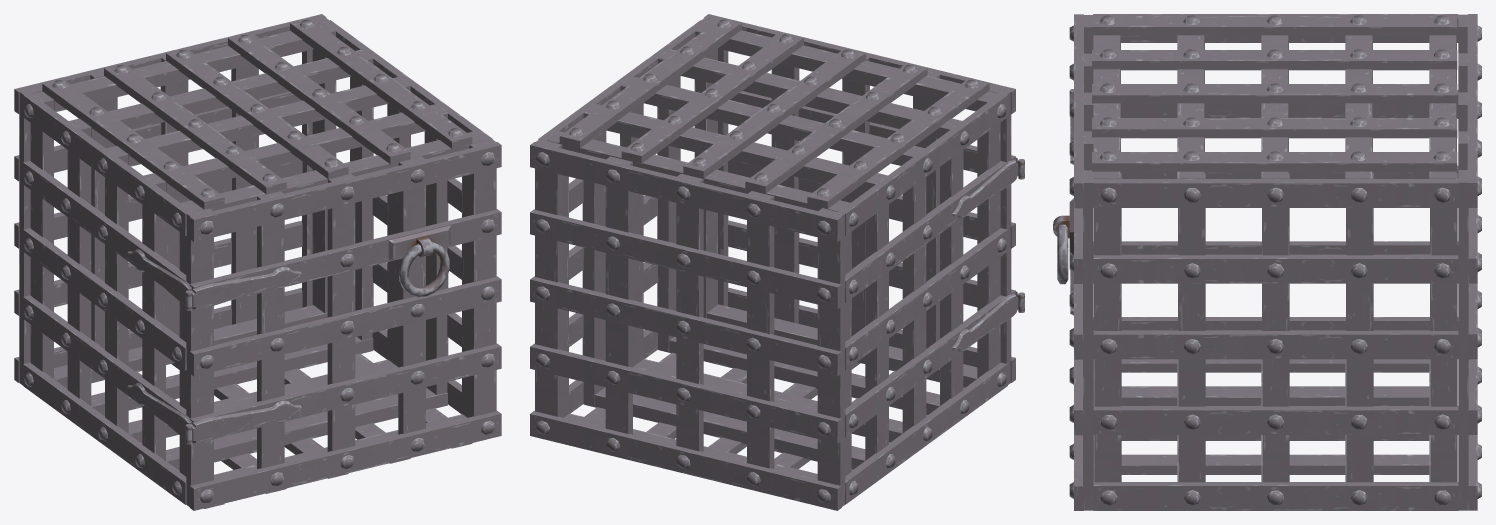
The model's file is Cage_Small.glb.
The picture shows the model from 3 angles, left to right: view 1: azimuth 30°, elevation 25°; view 2: azimuth 150°, elevation 25°; view 3: azimuth 270°, elevation 25°; orthographic projection. The views are drawn at different scales.
Parts seen in each view (by area): view 1: Cage_Small; view 2: Cage_Small; view 3: Cage_Small.
Part boxes in pixels (box(x1,y1,x2,y2)): Cage_Small: box(14, 14, 501, 510); Cage_Small: box(530, 14, 1024, 510); Cage_Small: box(1053, 14, 1481, 510).
Size of the model in its own units: 0.8549 by 0.8052 by 0.8843.
1 material, 1 textured.
